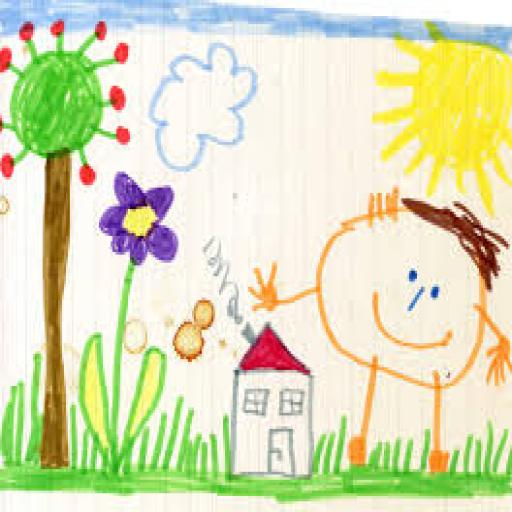person: (248, 185, 512, 475)
